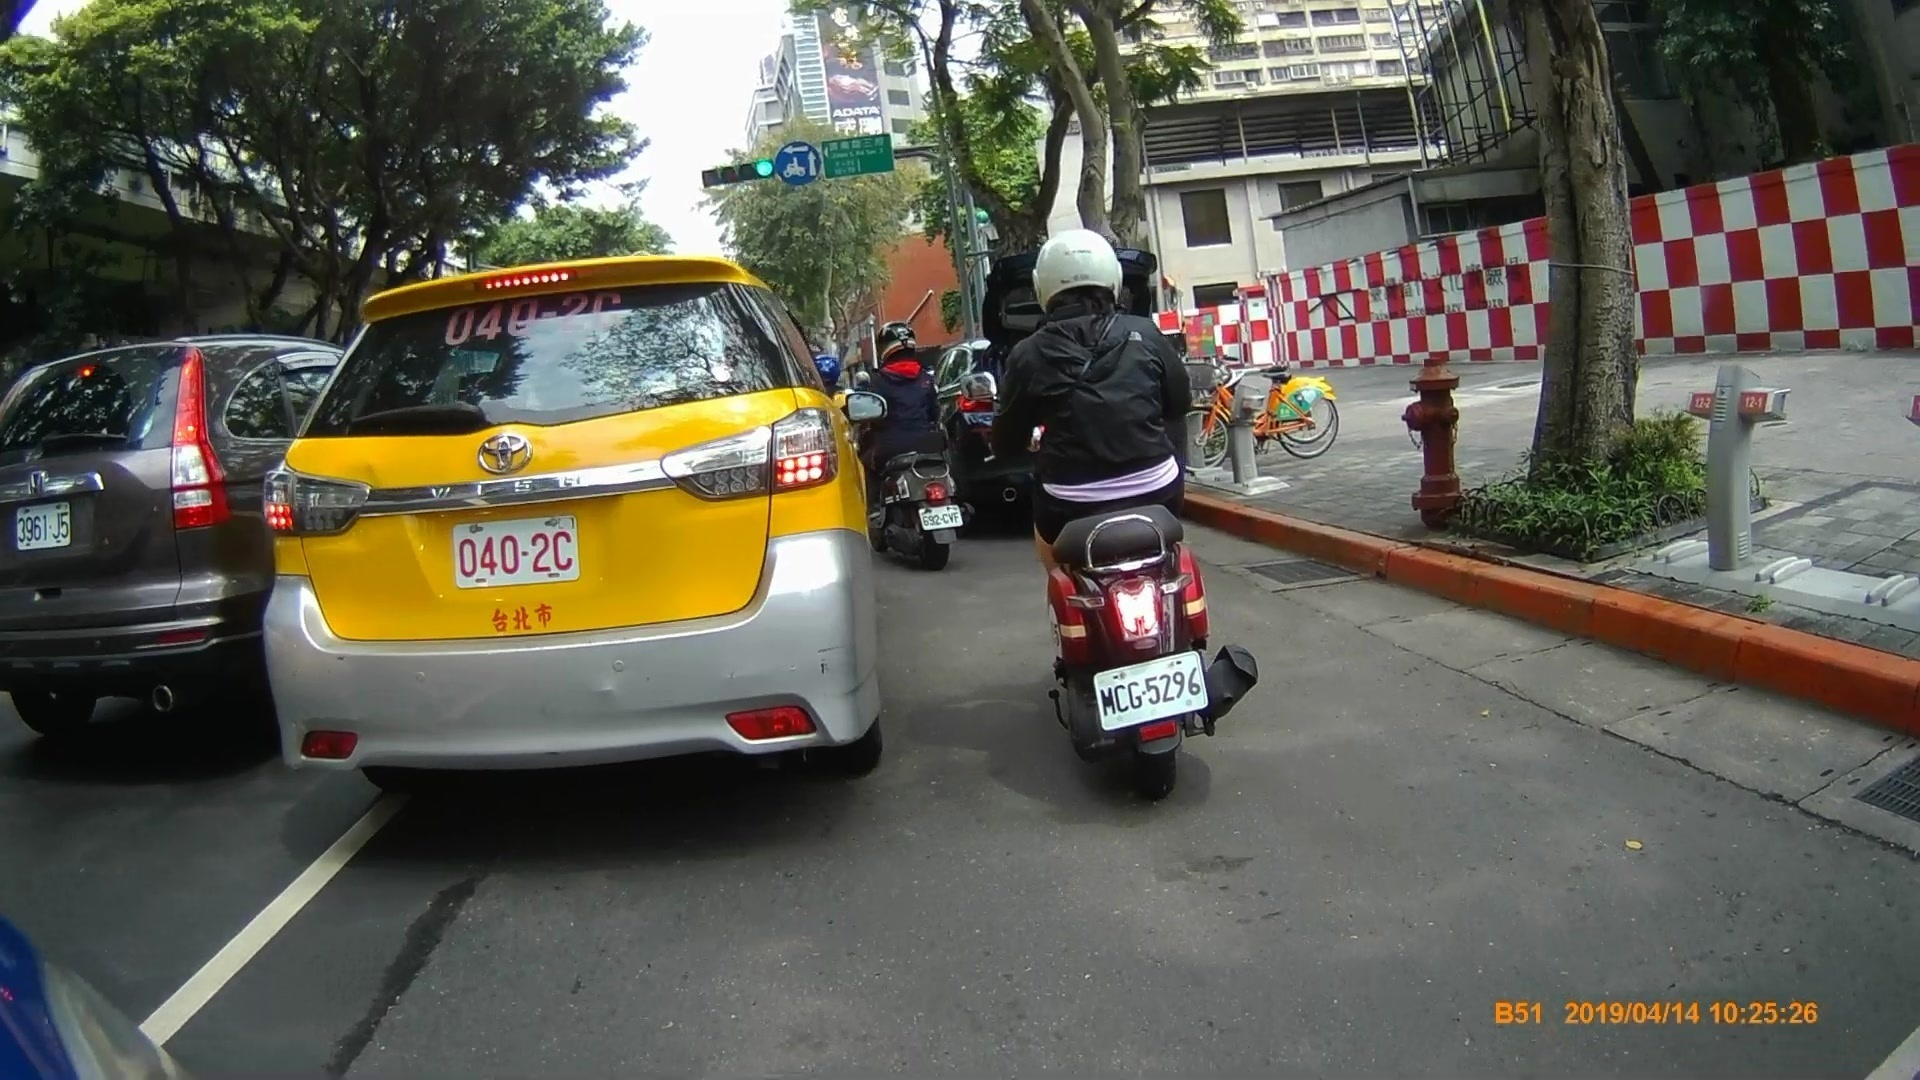License_plate: (1093, 651, 1212, 730), (451, 520, 586, 586), (12, 499, 77, 551)
